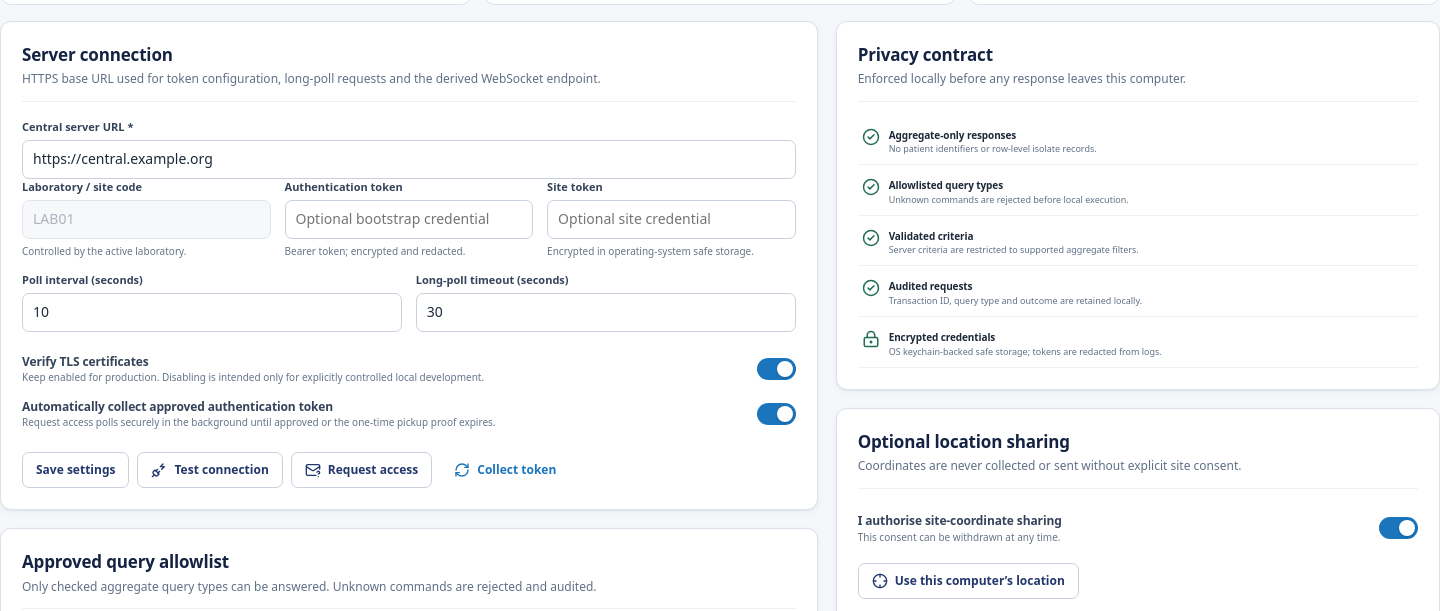
Test case: SyncPage location › says so when the build has no location service at all
Click the button "Use this computer’s location" at [968, 581], box [858,563,1079,599]
(page scrolled)
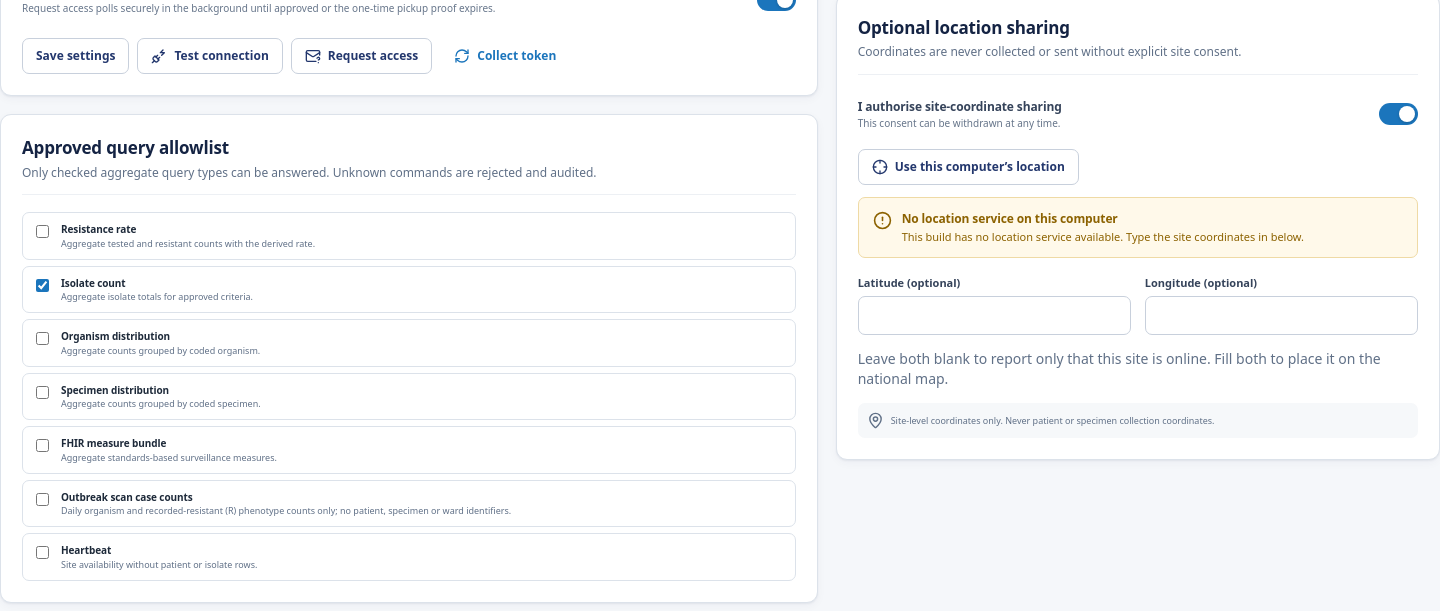
Expected: the text "No location service on this computer" is shown, [902,210,1118,227]
